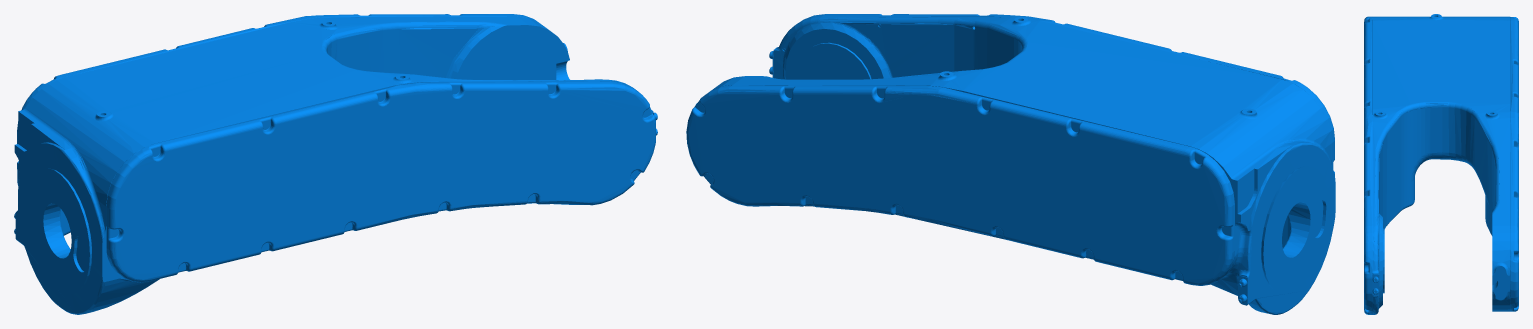
File: r_axis.dae
The picture shows the model from 3 angles, left to right: view 1: azimuth 30°, elevation 25°; view 2: azimuth 150°, elevation 25°; view 3: azimuth 270°, elevation 25°; orthographic projection. The views are drawn at different scales.
Parts seen in each view (by area): view 1: R_Axis; view 2: R_Axis; view 3: R_Axis.
Part boxes in pixels (box(x1,y1,x2,y2)): R_Axis: box(14, 14, 657, 314); R_Axis: box(686, 14, 1335, 314); R_Axis: box(1364, 14, 1518, 314).
Size of the model in its own units: 0.5709 by 0.18 by 0.1796.
